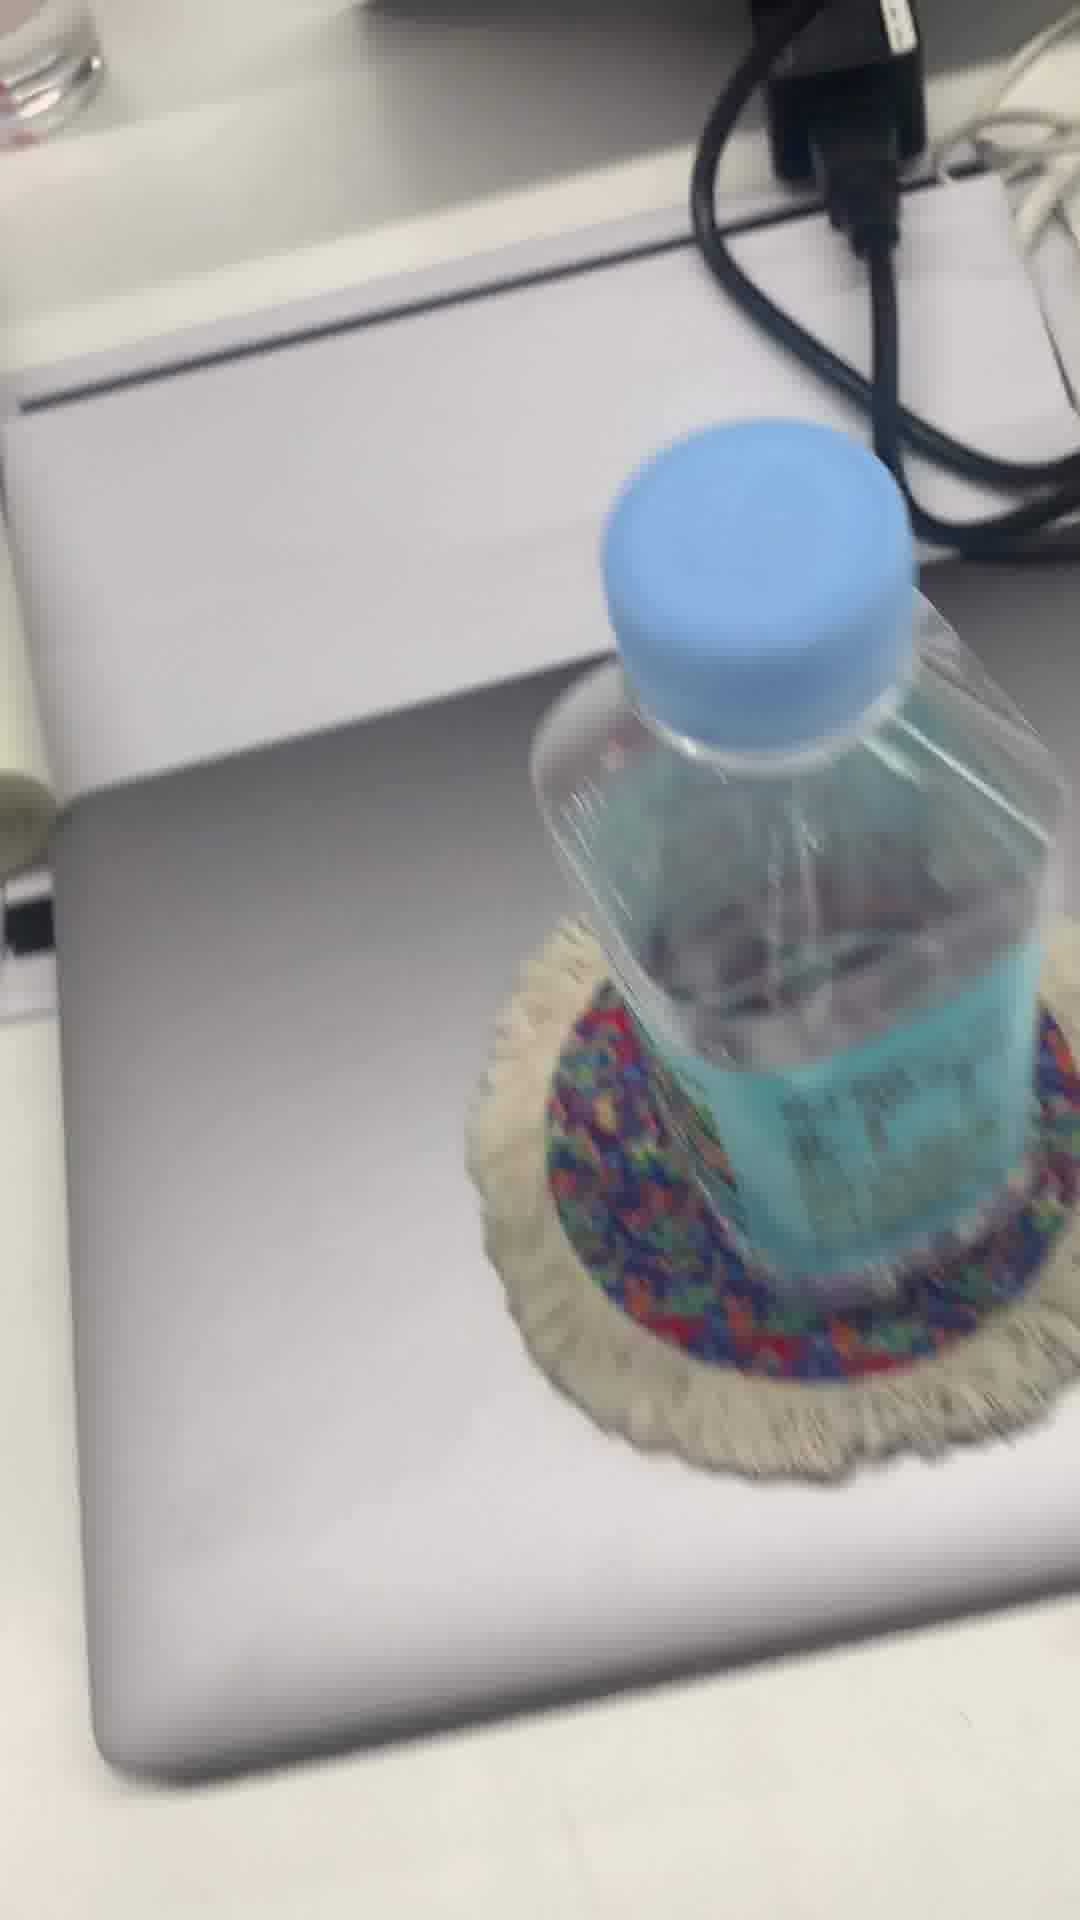水瓶: (529, 411, 1067, 1320)
